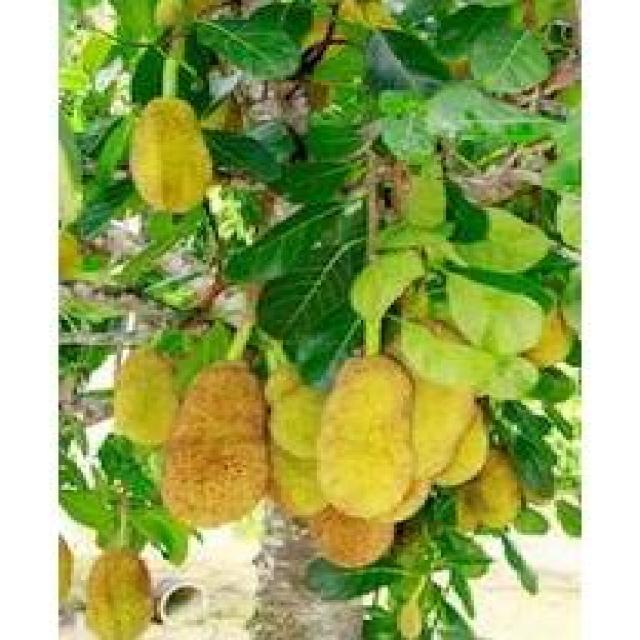Fruit: (262, 330, 464, 610), (117, 340, 286, 548), (120, 87, 225, 225)
